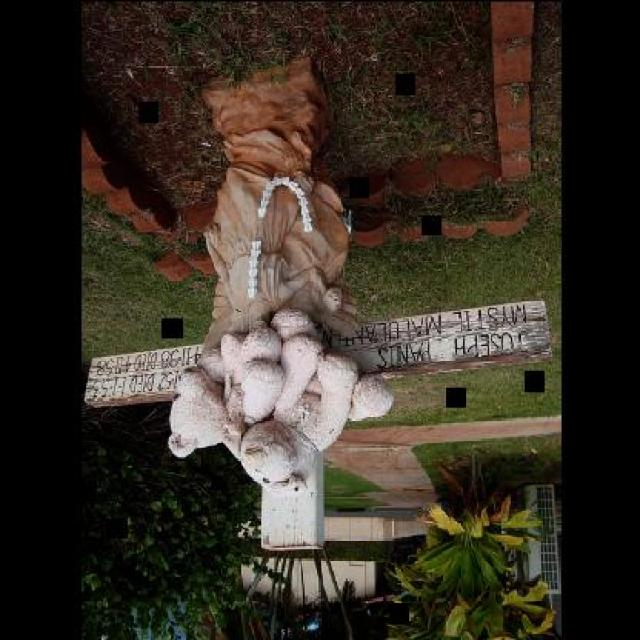unauthorized: (164, 52, 393, 491)
